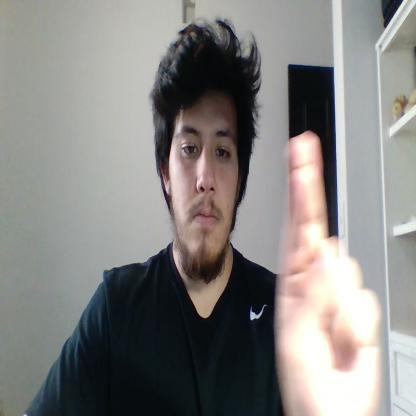R: (274, 130, 382, 415)
